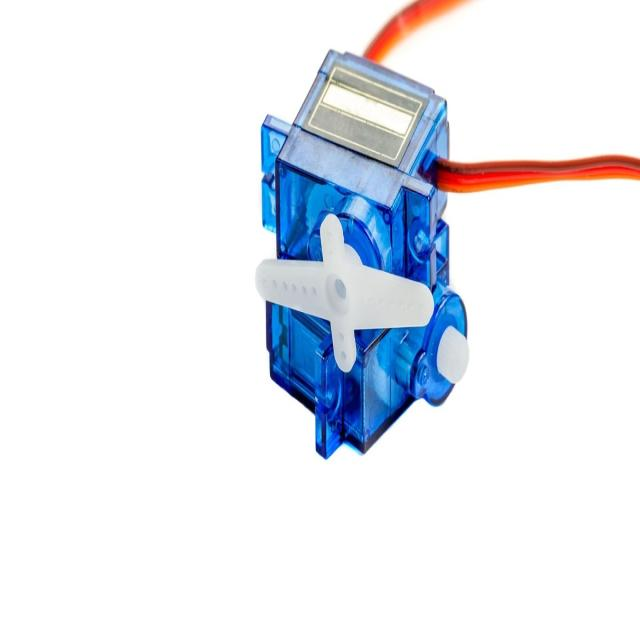ps4_controller: (262, 13, 493, 461)
